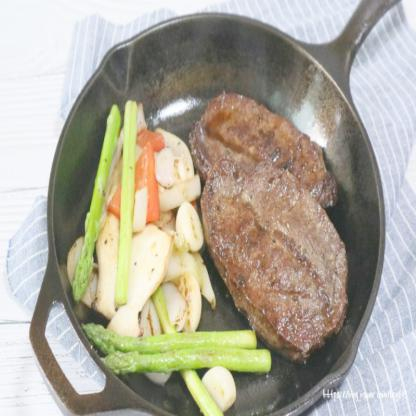Carne: (194, 75, 346, 352)
